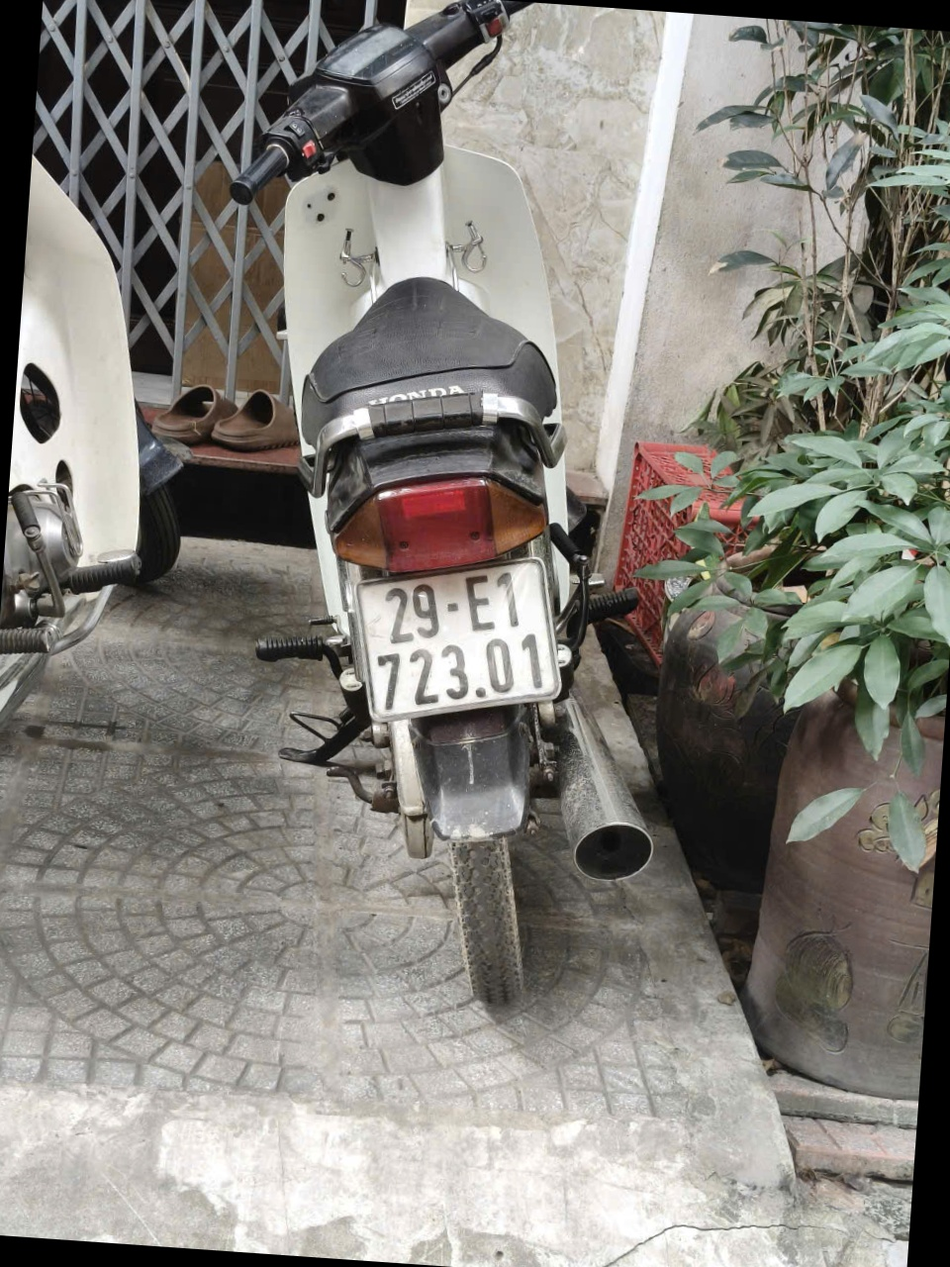plate: (795, 423, 920, 466)
